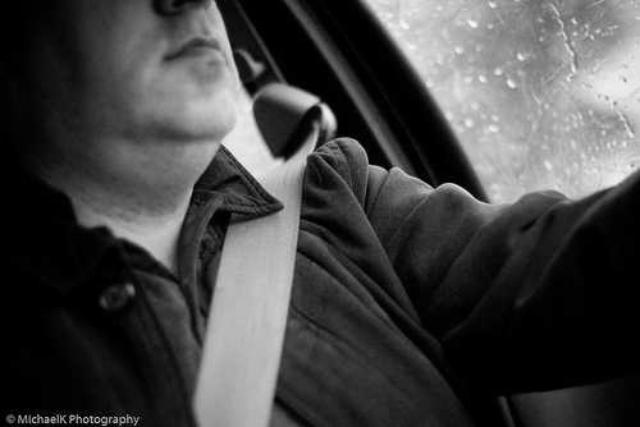Seatbelt: (188, 81, 336, 427)
